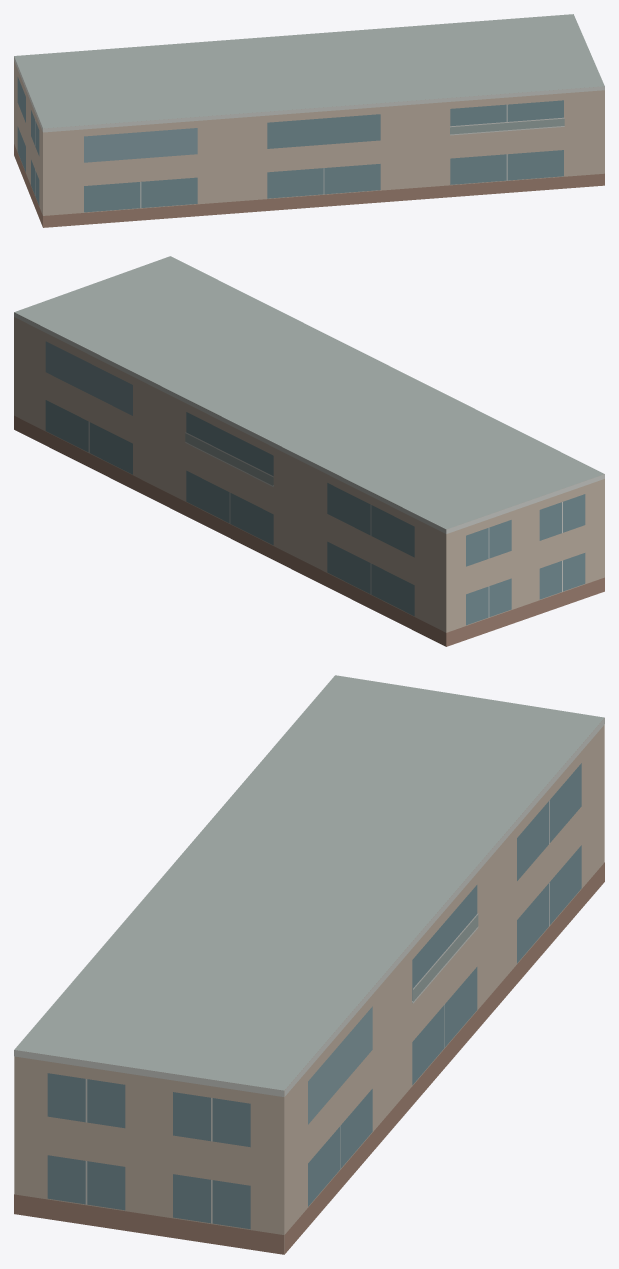
Rendered from survey-upis-32872172.glb.
The picture shows the model from 3 angles, top to bottom: view 1: azimuth 30°, elevation 25°; view 2: azimuth 150°, elevation 25°; view 3: azimuth 270°, elevation 25°; orthographic projection. The views are drawn at different scales.
Visible parts, largest first — view 1: survey-upis-32872172.tmp; view 2: survey-upis-32872172.tmp; view 3: survey-upis-32872172.tmp.
Boxes of the visible parts, x1=… form: survey-upis-32872172.tmp: x1=14, y1=14, x2=604, y2=227; survey-upis-32872172.tmp: x1=14, y1=256, x2=604, y2=646; survey-upis-32872172.tmp: x1=14, y1=675, x2=604, y2=1254.
Bounding box in the file's own units: 33.13 × 6.1 × 19.91.
